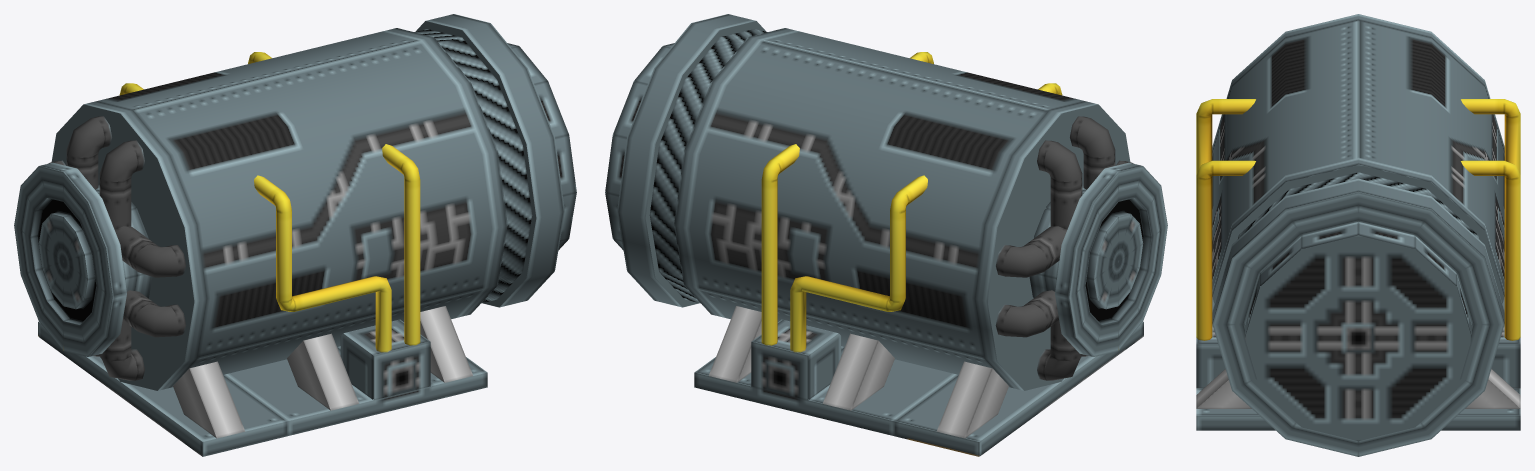
The model's file is klystron.obj.
3 views of the same model, side by side, from view 1: azimuth 30°, elevation 25°; view 2: azimuth 150°, elevation 25°; view 3: azimuth 270°, elevation 25° (orthographic).
Visible parts, largest first — view 1: Klystron, Pipes, Rotor; view 2: Klystron, Pipes, Rotor; view 3: Klystron, Pipes, Rotor.
Part boxes in pixels (<box>): Klystron: <box>14,14,576,456</box>; Pipes: <box>119,52,420,352</box>; Rotor: <box>414,29,532,303</box>; Klystron: <box>605,14,1167,456</box>; Pipes: <box>761,52,1062,352</box>; Rotor: <box>649,29,767,303</box>; Klystron: <box>1196,14,1520,456</box>; Pipes: <box>1196,99,1520,340</box>; Rotor: <box>1238,172,1478,238</box>.
Size of the model in its own units: 8 by 4.75 by 5.
